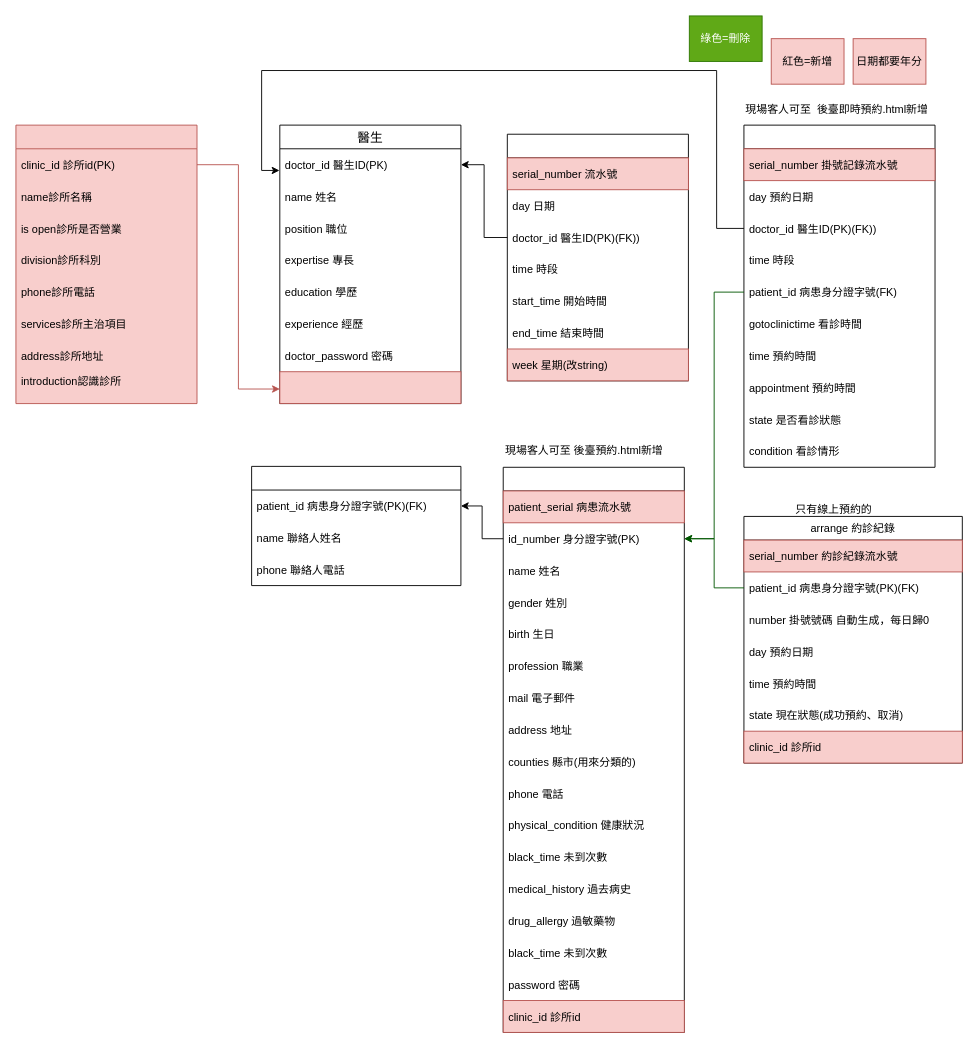
This 978x1048 diagram has some shape labels left out. Each missing label, with the box of its shape:
clinic_id 診所id(FK): (279, 371, 461, 404)
clinic診所資料表: (15, 124, 197, 404)
doctorwork醫生工作時間: (506, 133, 688, 381)
emergencycontact緊急聯絡人: (251, 465, 461, 586)
patient 病患: (502, 466, 684, 1032)
seedoctor 掛號紀錄: (743, 124, 935, 467)
